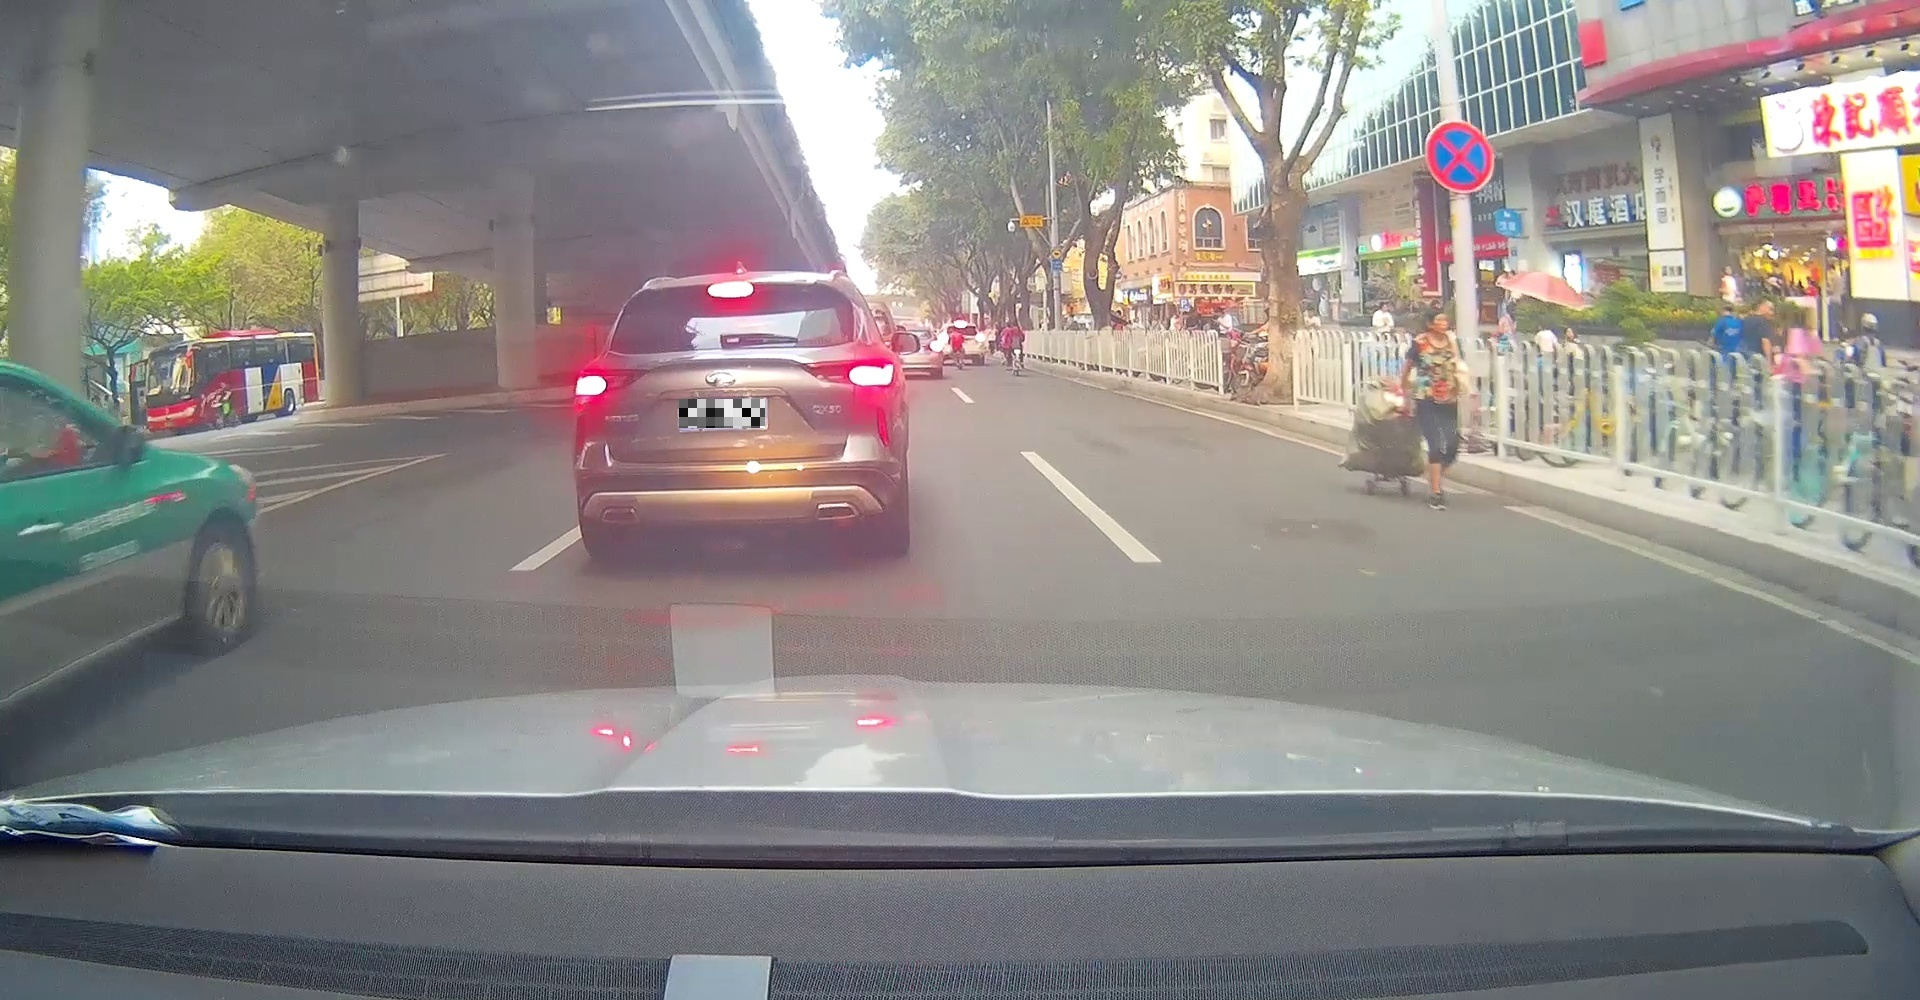L_light: (571, 368, 649, 412)
R_light: (801, 357, 897, 386)
T_light: (709, 286, 752, 293)
day-brake: (570, 274, 902, 558)
plate_1: (679, 398, 764, 428)
